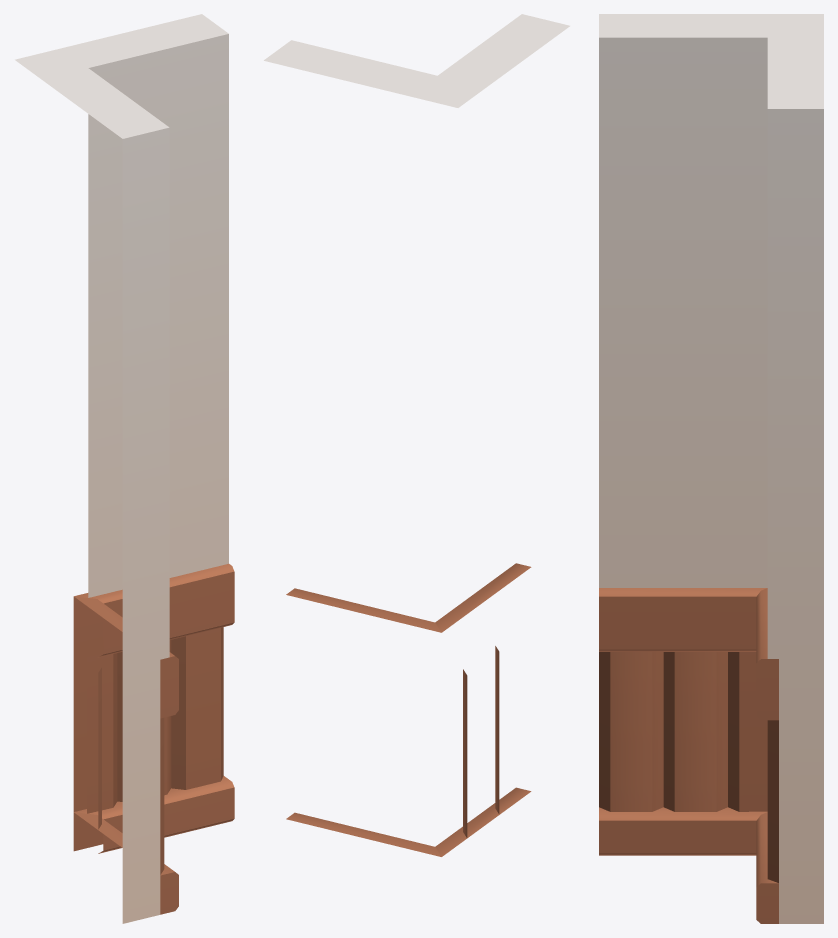
The model's file is wall-modular-panelled-bakery-half-corner-inner-b.glb.
3 renders of one model, left to right at view 1: azimuth 30°, elevation 25°; view 2: azimuth 150°, elevation 25°; view 3: azimuth 270°, elevation 25°, orthographic. The views are drawn at different scales.
Parts seen in each view (by area): view 1: wall_modular_panelled_bakery_half_corner_inner_B; view 2: wall_modular_panelled_bakery_half_corner_inner_B; view 3: wall_modular_panelled_bakery_half_corner_inner_B.
Boxes of the visible parts, x1=… form: wall_modular_panelled_bakery_half_corner_inner_B: x1=15, y1=14, x2=234, y2=923; wall_modular_panelled_bakery_half_corner_inner_B: x1=264, y1=14, x2=569, y2=856; wall_modular_panelled_bakery_half_corner_inner_B: x1=599, y1=14, x2=823, y2=923.
Size of the model in its own units: 1 by 4 by 1.
1 material, 1 textured.
